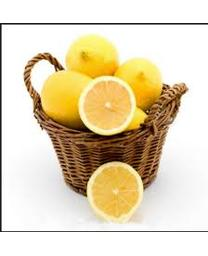lemon: (87, 160, 145, 222), (78, 76, 138, 135), (43, 69, 97, 127), (66, 35, 119, 80), (116, 57, 163, 106)
